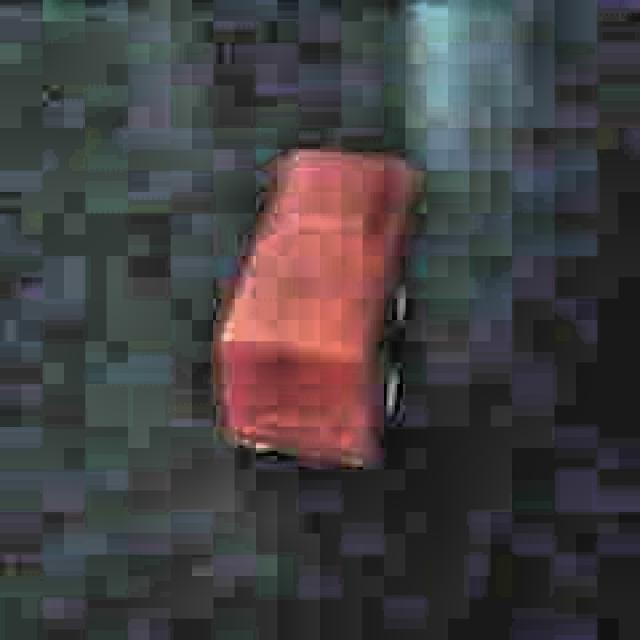bus: (205, 136, 422, 476)
